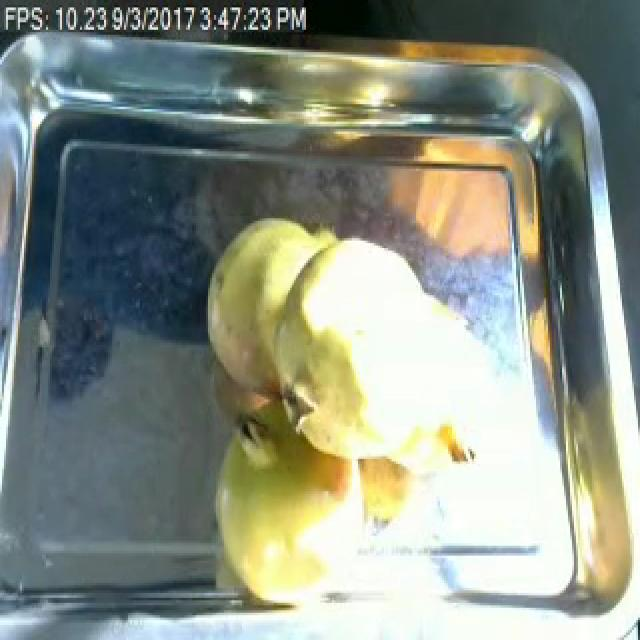fruit: (252, 300, 478, 491), (268, 218, 460, 355)
